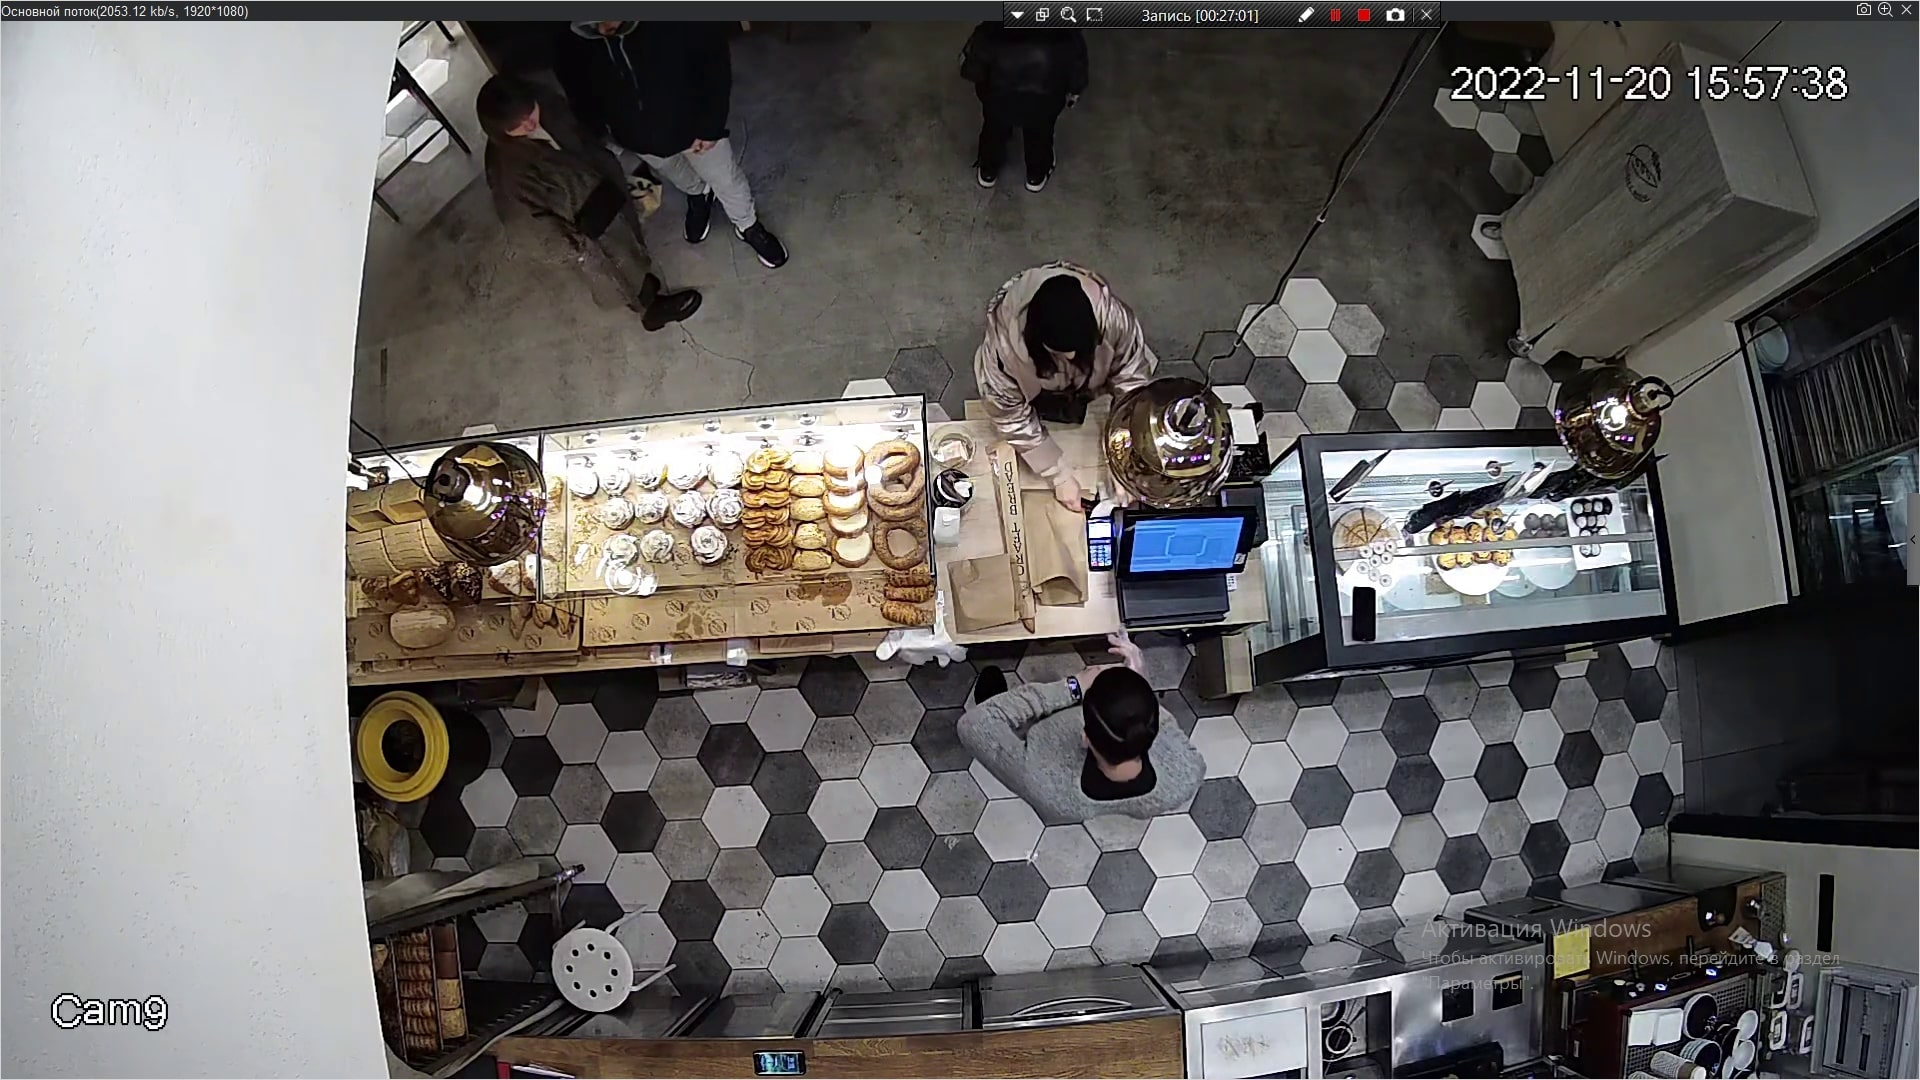barcounter: (357, 439, 1700, 680)
pack: (1027, 486, 1098, 605), (991, 446, 1037, 618), (948, 559, 1012, 623)
person: (941, 659, 1227, 830), (979, 259, 1155, 406)
terminal: (1061, 462, 1118, 573)
